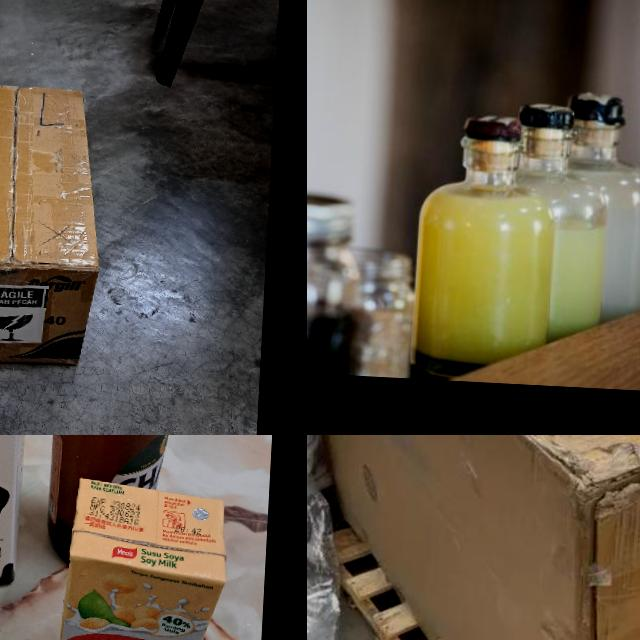caixinha: (46, 475, 231, 640)
garrafa de vidro: (409, 114, 562, 386), (508, 100, 613, 342), (45, 435, 189, 574), (557, 91, 640, 326)
papelão: (307, 435, 640, 640), (0, 80, 109, 369)
